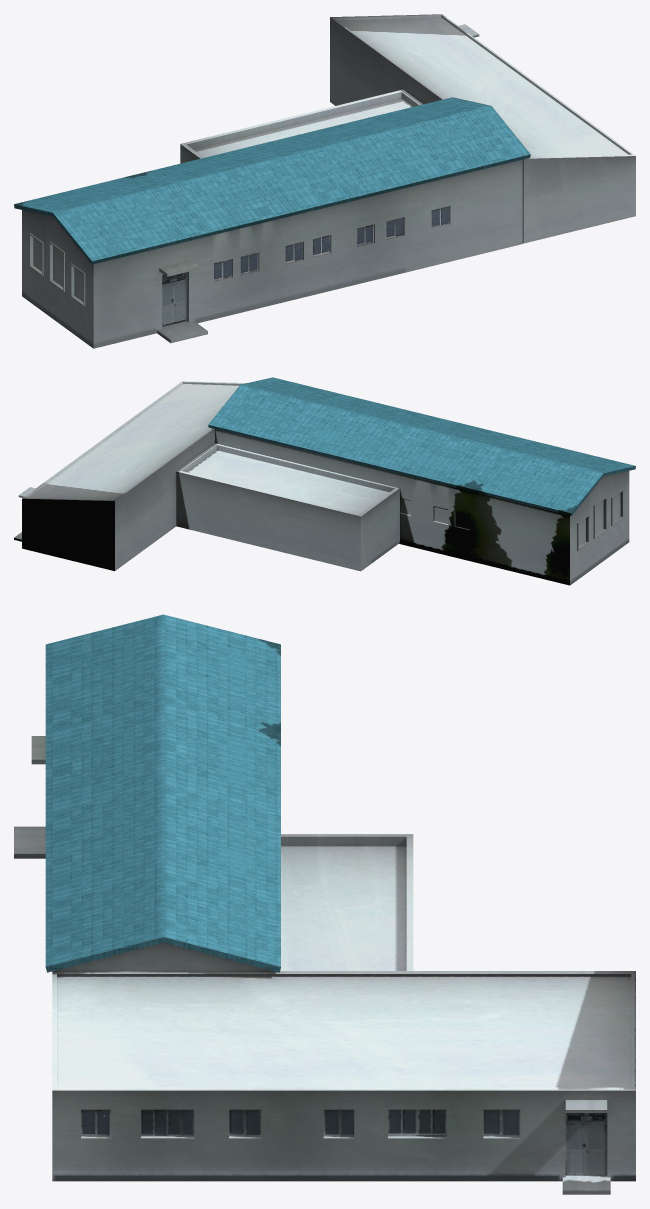
File: build6YNSCYQ.glb
3 renders of one model, top to bottom at view 1: azimuth 30°, elevation 25°; view 2: azimuth 150°, elevation 25°; view 3: azimuth 270°, elevation 25°, orthographic. The views are drawn at different scales.
Visible parts, largest first — view 1: bulid6YNSCYQ; view 2: bulid6YNSCYQ; view 3: bulid6YNSCYQ.
Boxes of the visible parts, x1,y1,x2,y2 form: bulid6YNSCYQ: (14,14,635,348); bulid6YNSCYQ: (14,377,635,585); bulid6YNSCYQ: (14,614,635,1194).
Size of the model in its own units: 2630 by 493 by 1667.
Materials: 1 (1 with a texture image).
